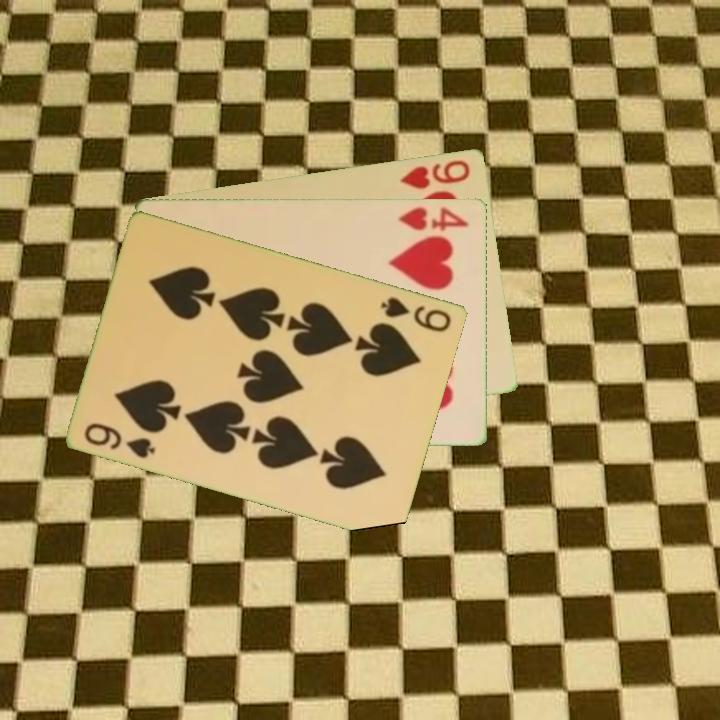4h: (395, 203, 472, 233)
9h: (397, 156, 473, 192)
9s: (378, 292, 455, 335), (81, 419, 159, 461)
